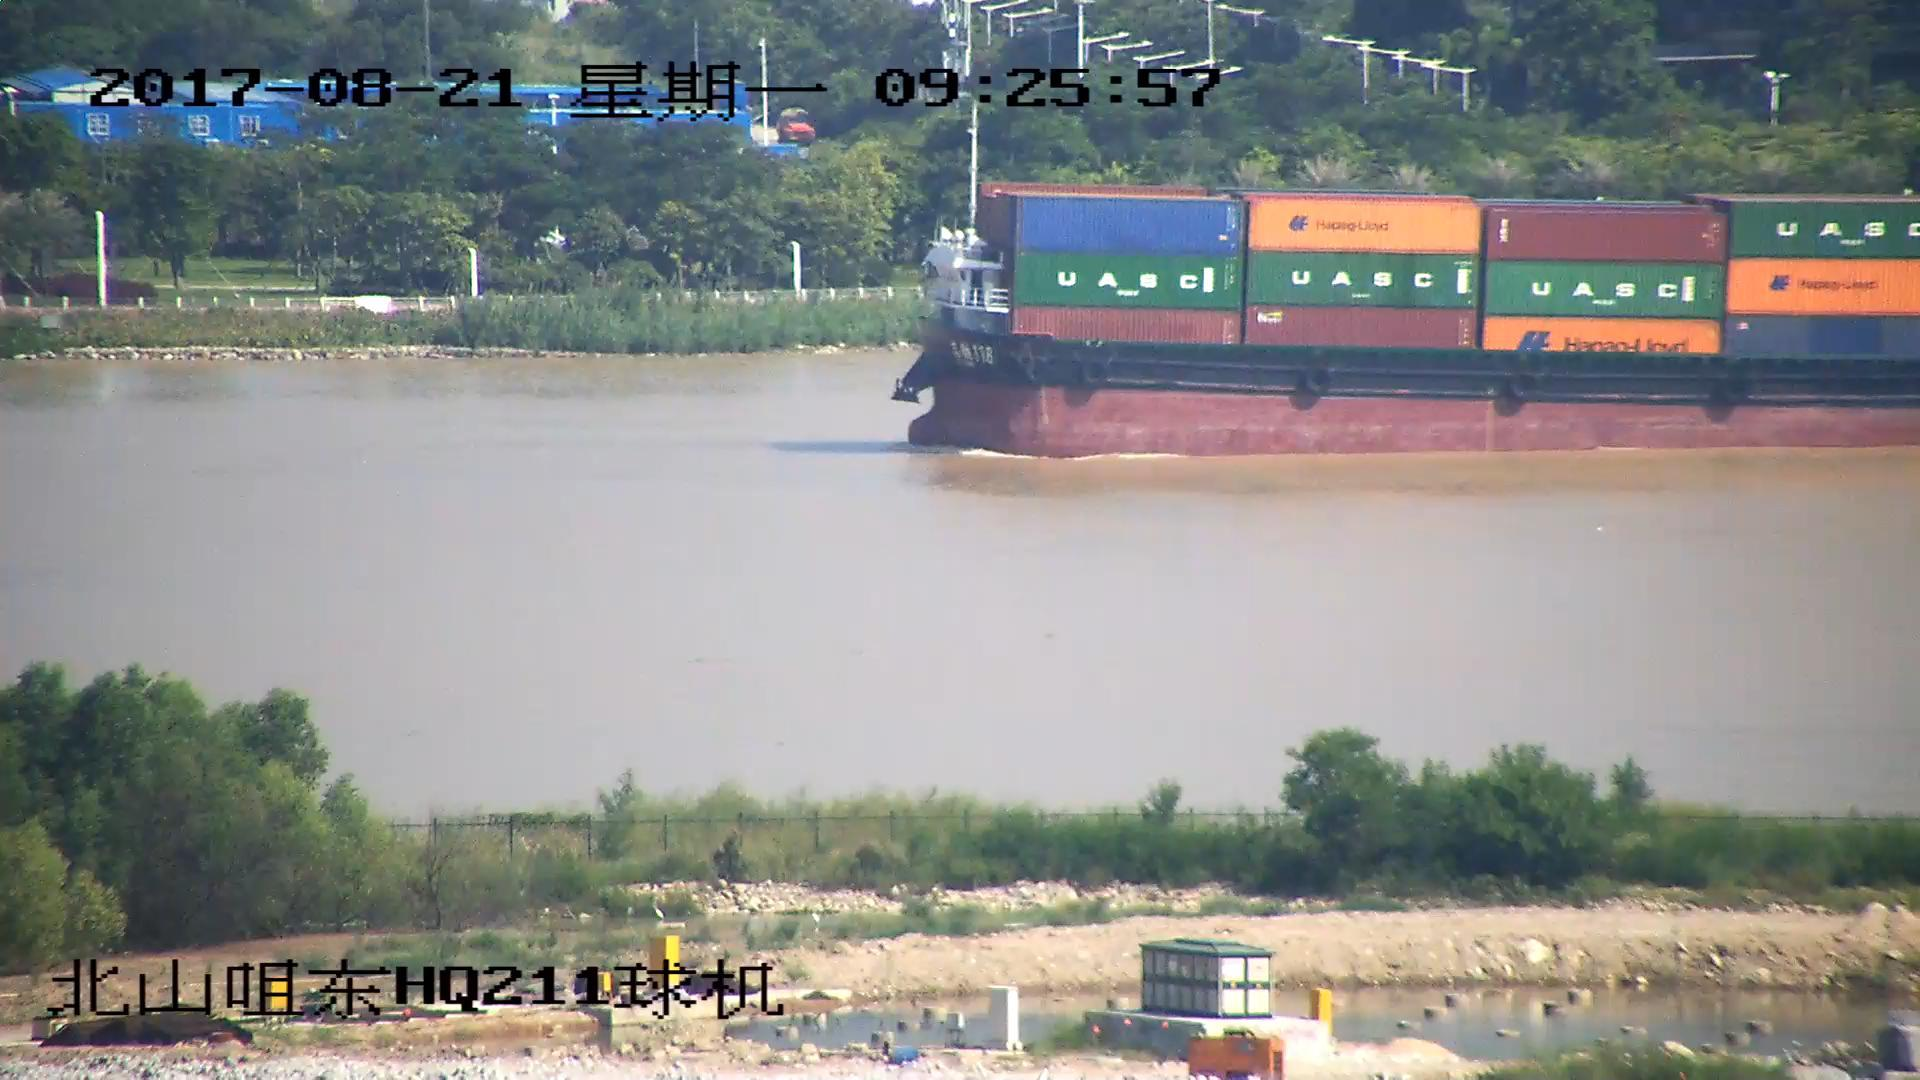Ship: (887, 113, 1920, 458)
